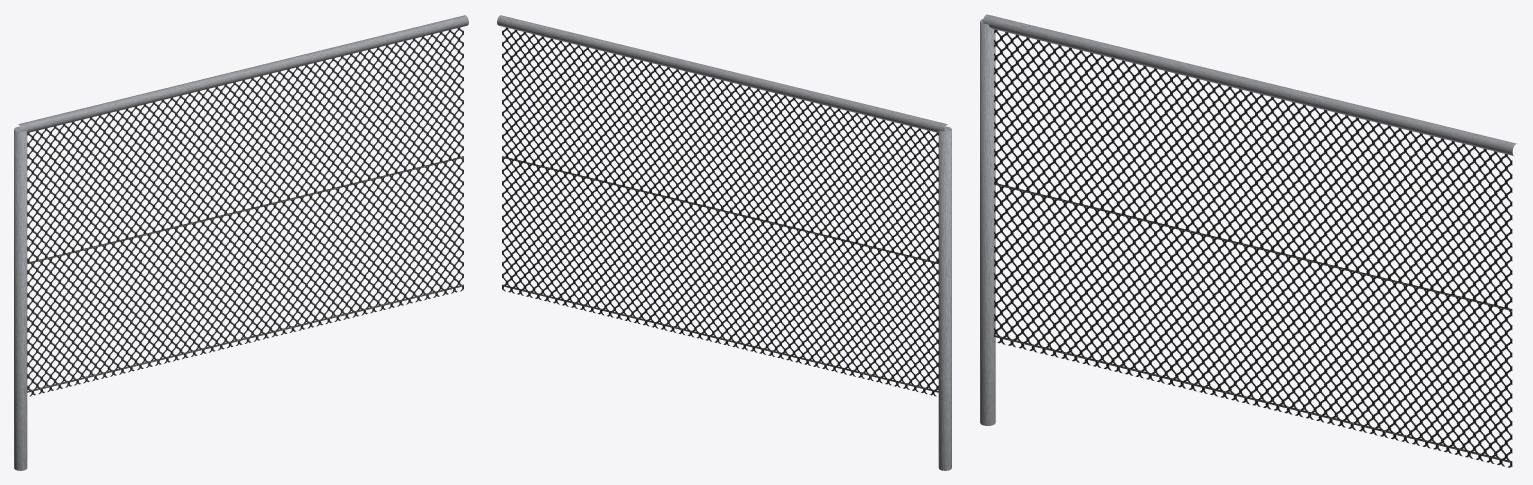
File: fence-tall-chainlink-1rail-1s-cbj_LOD00.gltf
The picture shows the model from 3 angles, left to right: view 1: azimuth 30°, elevation 25°; view 2: azimuth 150°, elevation 25°; view 3: azimuth 330°, elevation 25°; orthographic projection. The views are drawn at different scales.
Parts seen in each view (by area): view 1: cube00; view 2: cube00; view 3: cube00.
Part boxes in pixels (bbox=[...]): cube00: bbox=[14, 15, 468, 470]; cube00: bbox=[497, 15, 951, 470]; cube00: bbox=[980, 14, 1516, 467].
Size of the model in its own units: 3.14 by 2.3 by 0.08.
